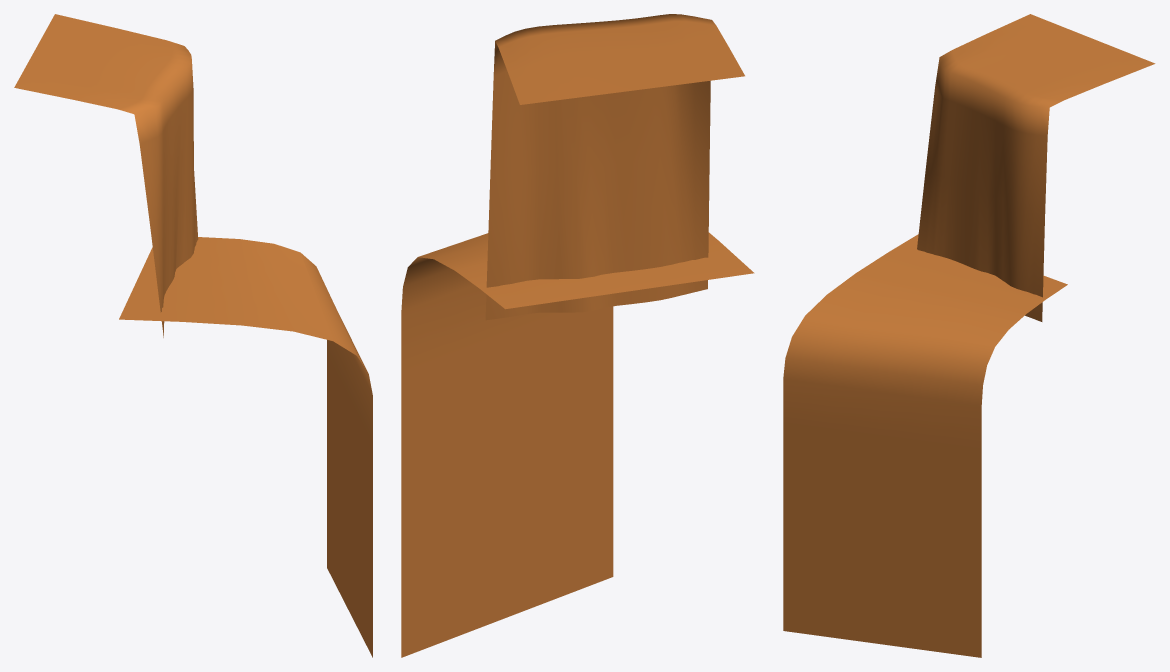
The model's file is cascada stuff 2.FBX.
The picture shows the model from 3 angles, left to right: view 1: azimuth 30°, elevation 25°; view 2: azimuth 150°, elevation 25°; view 3: azimuth 270°, elevation 25°; orthographic projection. The views are drawn at different scales.
Parts seen in each view (by area): view 1: A2_Cascada, Object001, A2_Rio; view 2: A2_Rio, A2_Cascada, Object001; view 3: A2_Rio, A2_Cascada, Object001.
Boxes of the visible parts, left/top/right/bottom form: A2_Cascada: left=14, top=14, right=198, bottom=337; Object001: left=119, top=237, right=332, bottom=340; A2_Rio: left=301, top=253, right=372, bottom=657; A2_Rio: left=401, top=257, right=613, bottom=657; A2_Cascada: left=485, top=14, right=744, bottom=320; Object001: left=418, top=232, right=754, bottom=309; A2_Rio: left=783, top=315, right=994, bottom=657; A2_Cascada: left=917, top=14, right=1155, bottom=321; Object001: left=805, top=234, right=1067, bottom=346.
Bounding box in the file's own units: 71.03 × 126 × 83.18.
